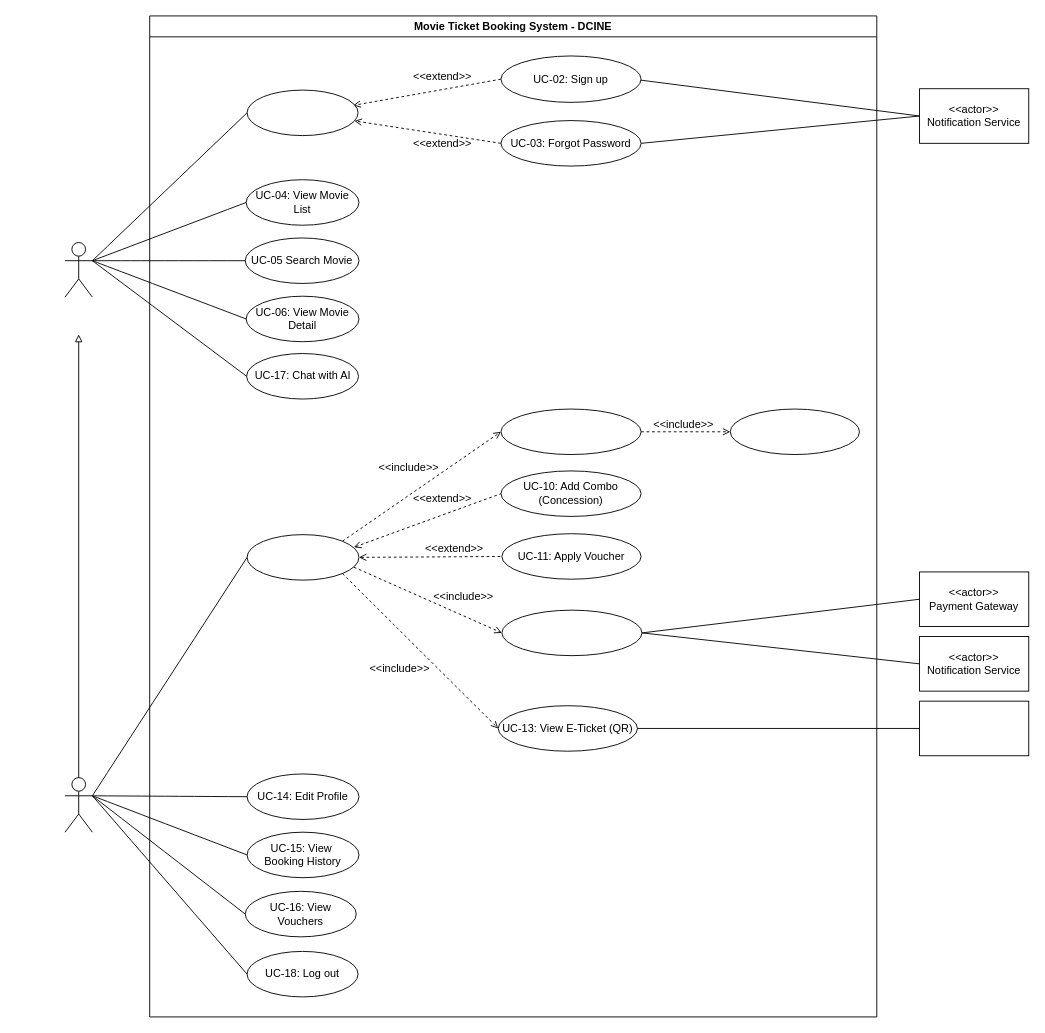
This 1045x1033 diagram has some shape labels left out. The centre of each missing label's shape, as x and y in pixels:
<<actor>> QR Validation Service: (974,728)
Customer (have an account): (78,804)
Guest (doesn't have an account): (78,269)
UC-01: Log in: (302,112)
UC-07: Booking Tickets: (302,557)
UC-08: Select Theater & Showtime: (570,431)
UC-09: Select Seats: (794,431)
UC-12: Make Online Payment: (571,632)
